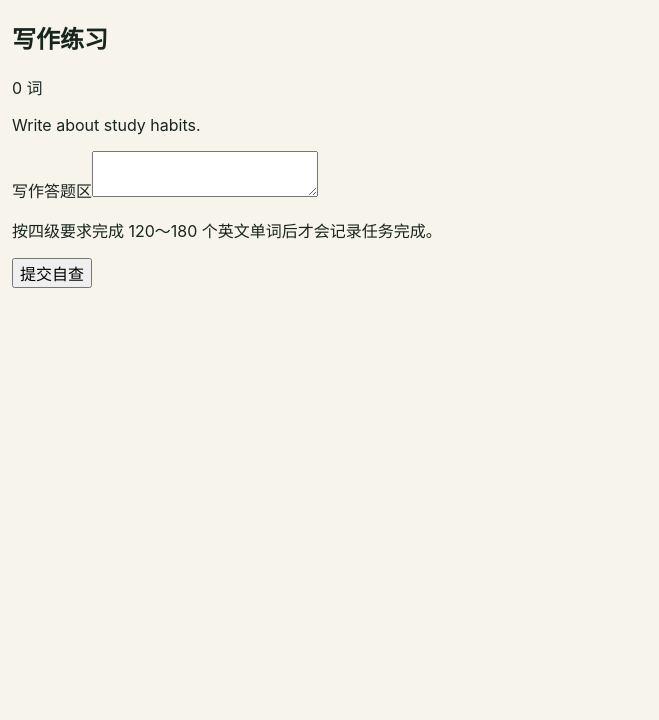
Test: SubjectiveEditor › shows a rubric and reference answer without an official score
Type "First, daily practice helps students remember important knowledge and notice their weak points before an examination. A clear routine also makes a difficult goal feel smaller, so learners are more wil" into the text box labelled "写作答题区" at (205, 174), box [92,151,318,197]
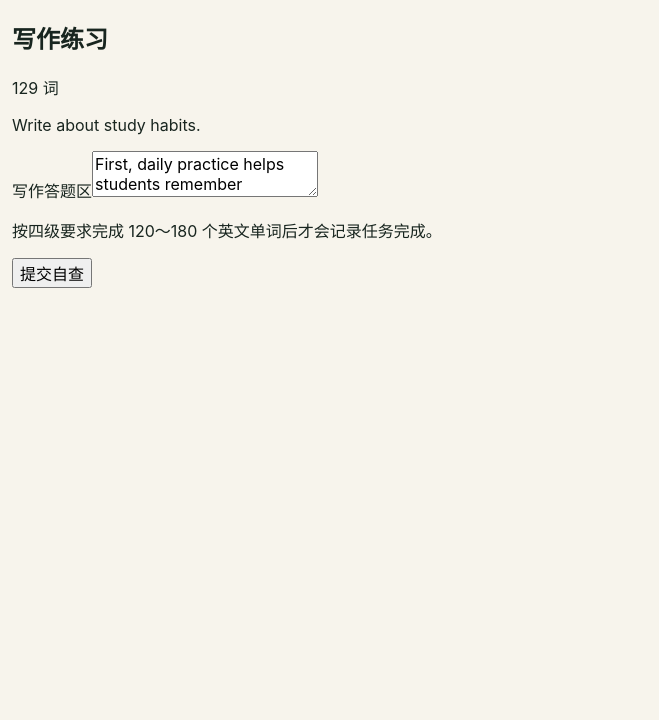
Click the button "提交自查" at (52, 273), box [12,258,92,288]
(page scrolled)
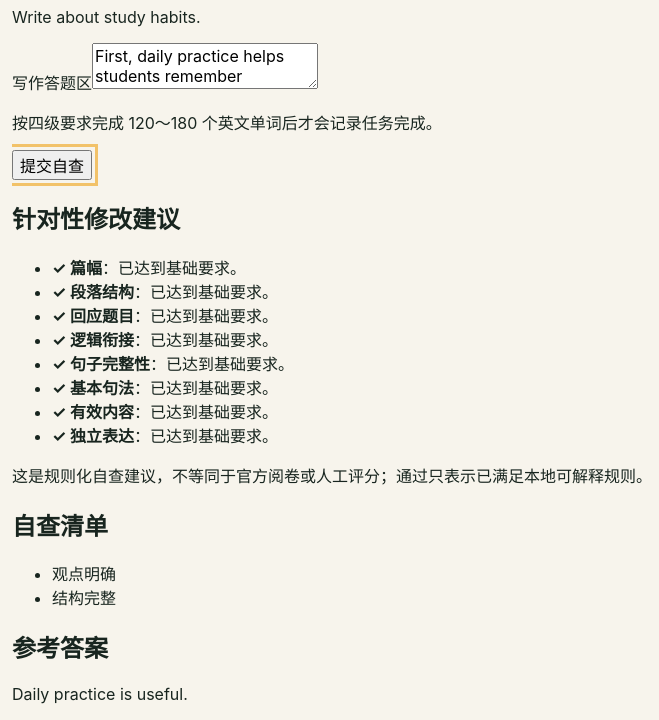
Now the text "Daily practice is useful." is shown, box [12,684,188,704]
